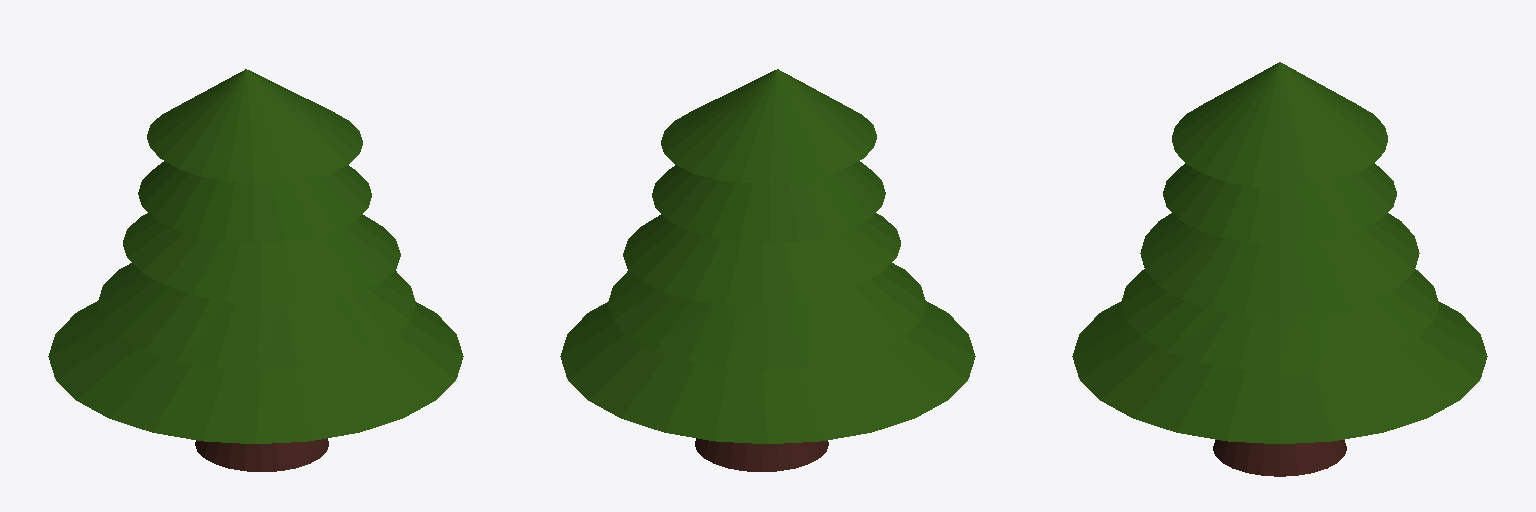
Rendered from tree1.obj.
3 views of the same model, side by side, from view 1: azimuth 30°, elevation 25°; view 2: azimuth 150°, elevation 25°; view 3: azimuth 270°, elevation 25° (orthographic).
Visible parts, largest first — view 1: tree1_Cylinder; view 2: tree1_Cylinder; view 3: tree1_Cylinder.
Boxes of the visible parts, box(x1,y1,x2,y2) form: tree1_Cylinder: box(48, 69, 463, 471); tree1_Cylinder: box(560, 69, 975, 471); tree1_Cylinder: box(1072, 62, 1487, 476).
Size of the model in its own units: 1.27 by 1.28 by 1.27.